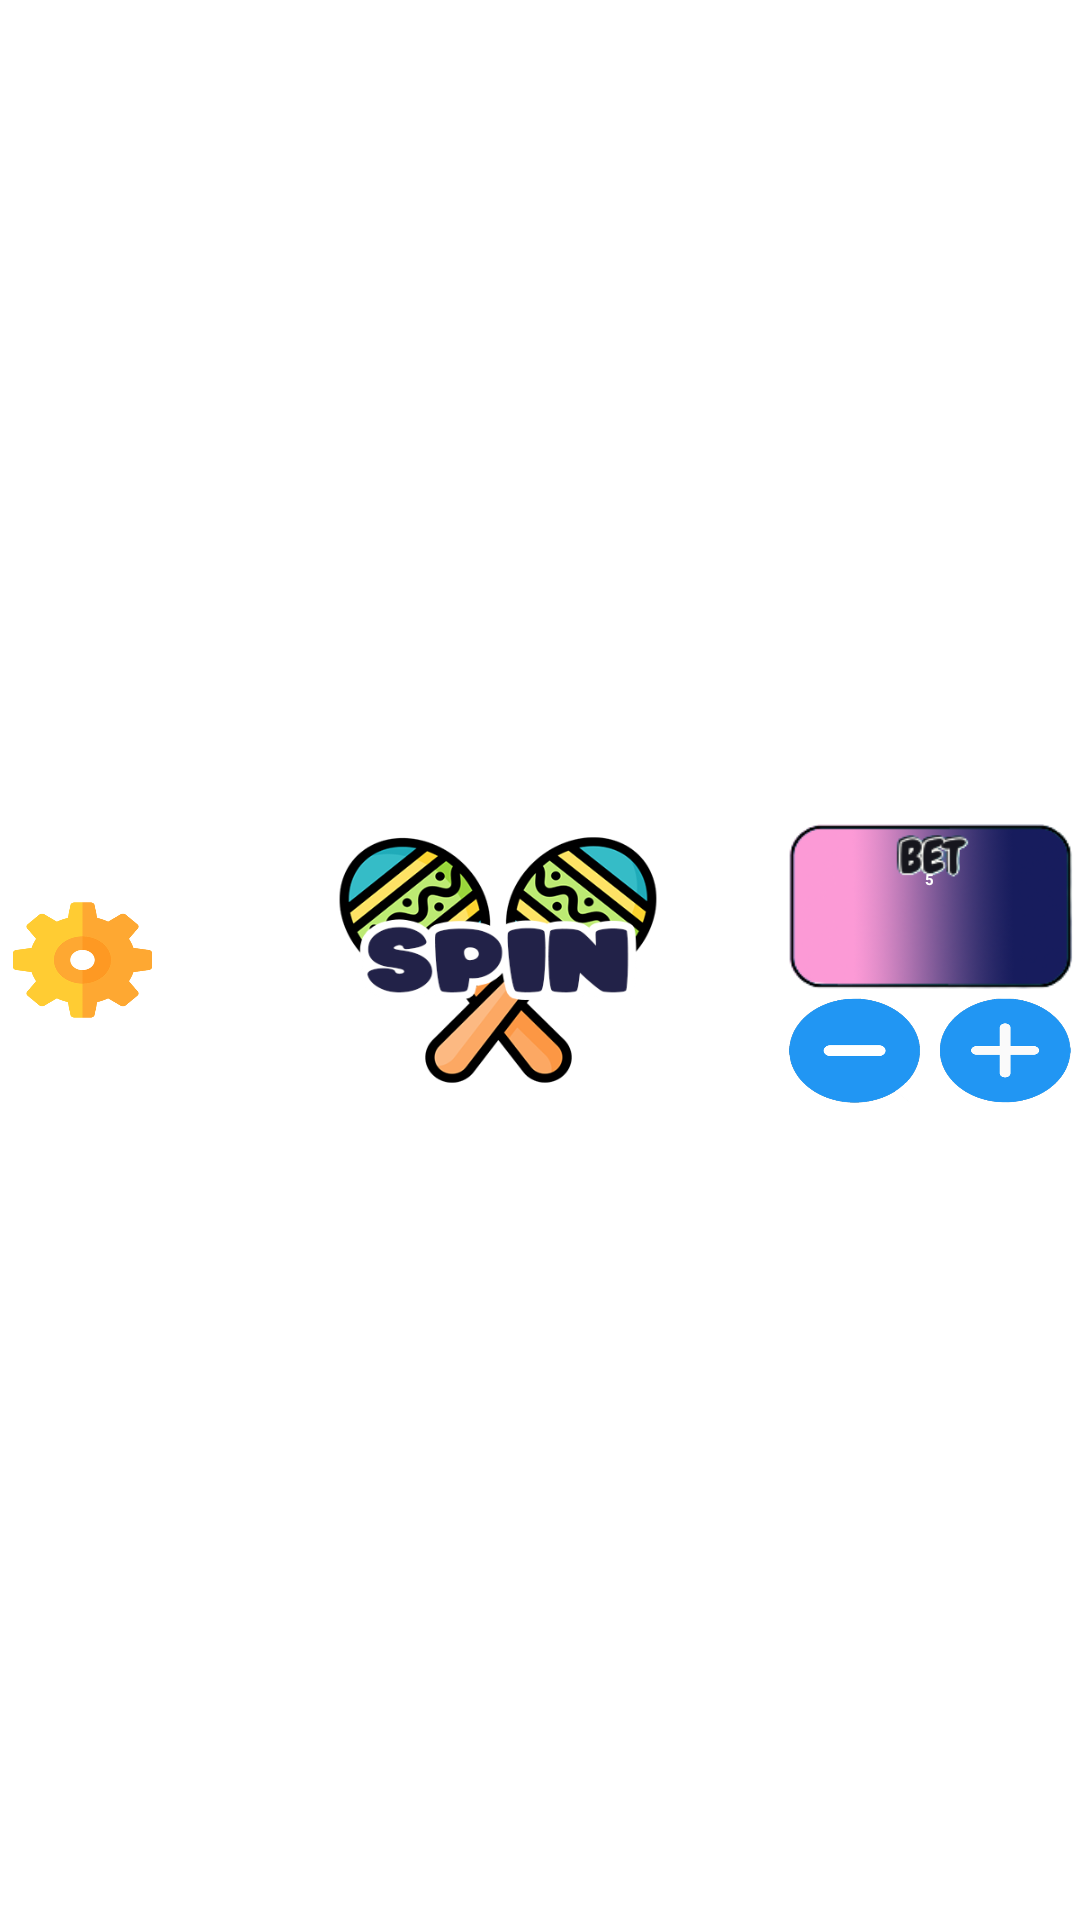

Where to tap for icons on this 1080px x 1920px app screen, as (x=x, y=y):
minus button: (x=854, y=1050)
plus button: (x=1005, y=1050)
settings button: (x=82, y=960)
